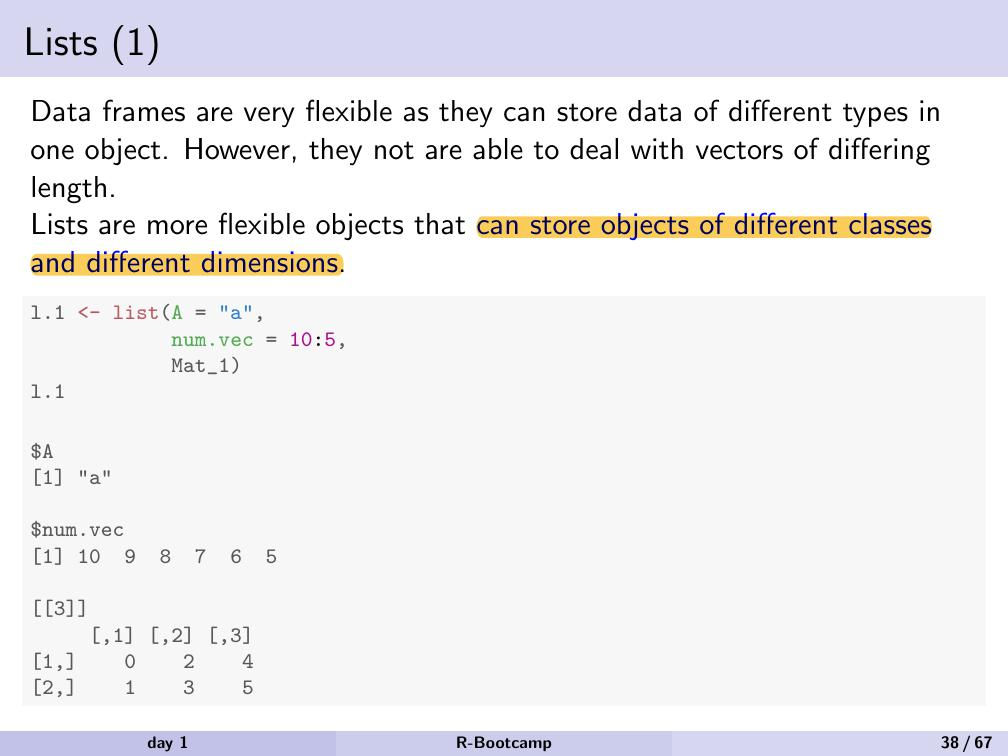Title: (19, 15, 176, 73)
